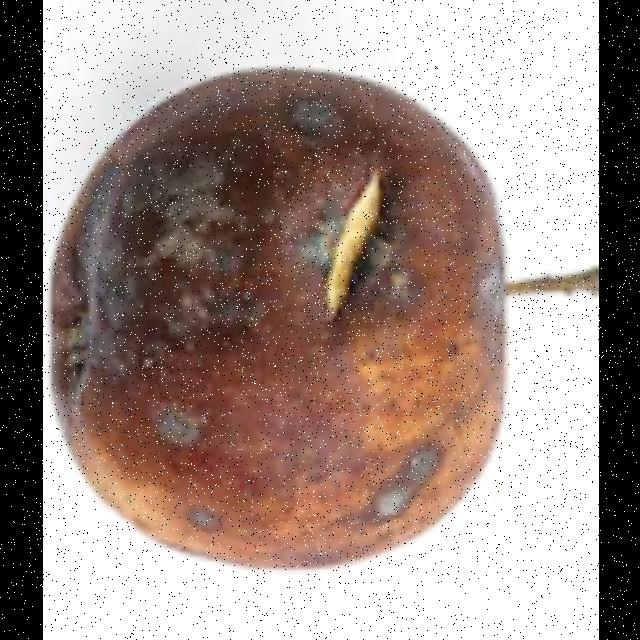Apel Tidak Segar: (45, 63, 505, 582)
